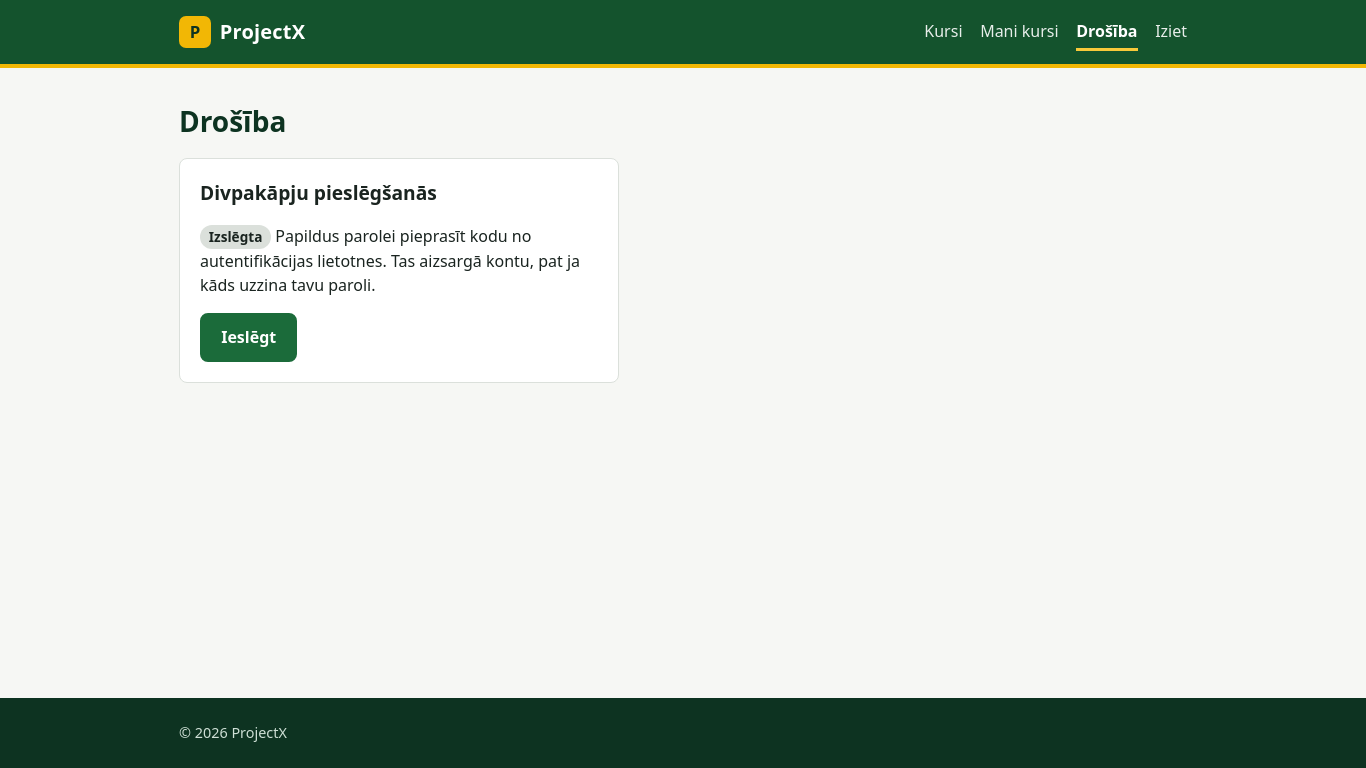
Test: logout › goes to the landing page, not the login page
What coordinates should you click on to do the following:
click the button "Iziet"
I would click on:
 (1171, 32)
Its box is [1155,13,1187,51].
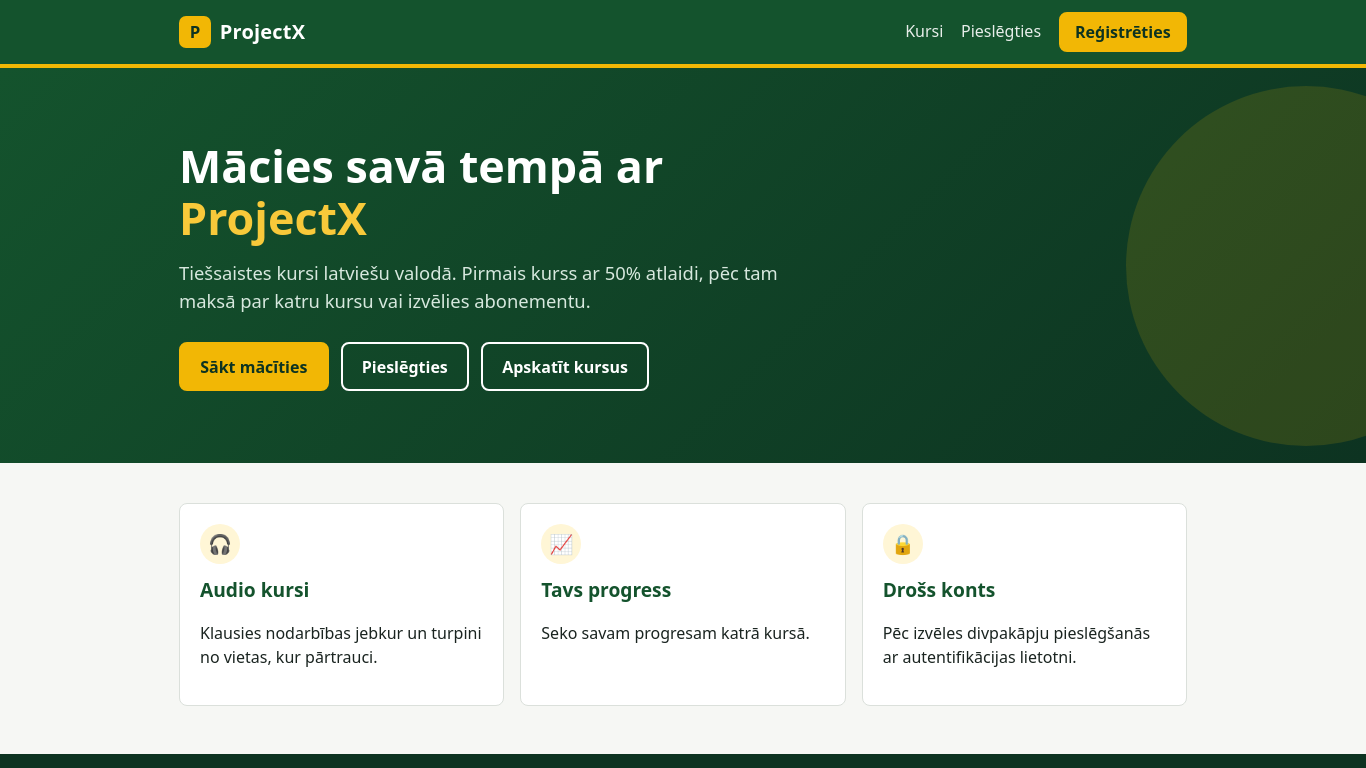
expect the link "Sākt mācīties" is shown: met, box [179,342,329,391]
